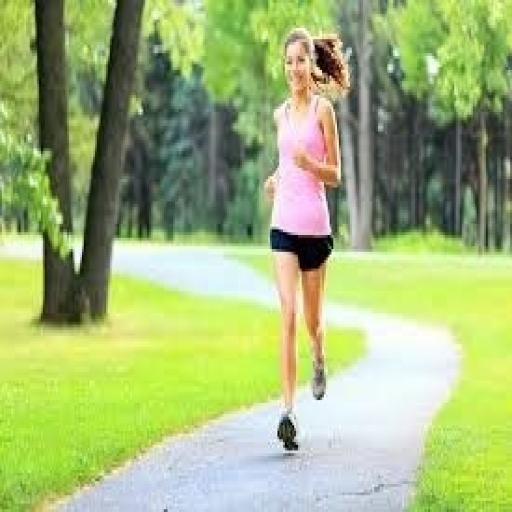running: (261, 25, 352, 453)
